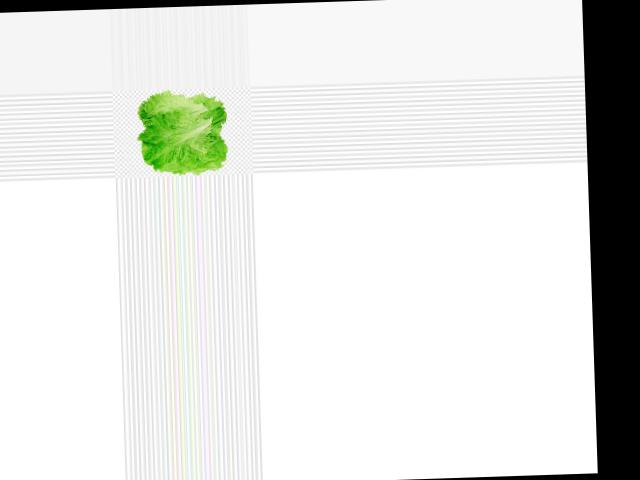lettuce: (130, 86, 234, 178)
